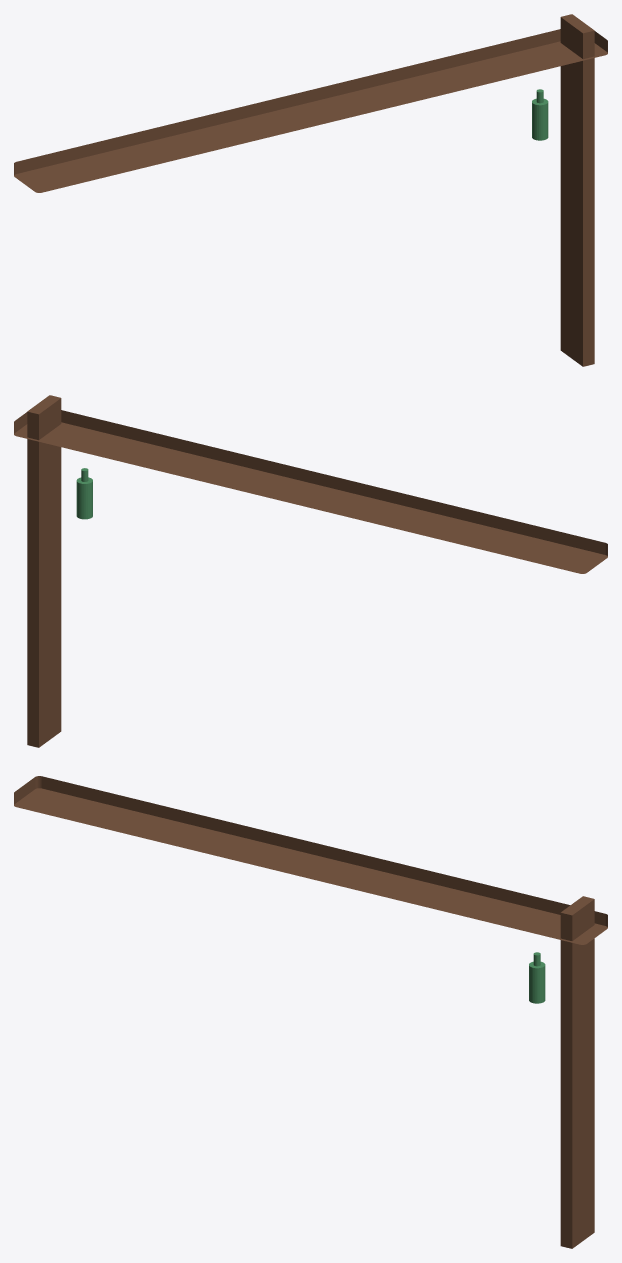
File: bar_shelf.glb
The picture shows the model from 3 angles, top to bottom: view 1: azimuth 30°, elevation 25°; view 2: azimuth 150°, elevation 25°; view 3: azimuth 330°, elevation 25°; orthographic projection.
Visible parts, largest first — view 1: Shelf, ShelfSide, Bottle; view 2: Shelf, ShelfSide, Bottle; view 3: Shelf, ShelfSide, Bottle.
Boxes of the visible parts, left/top/right/bottom form: Shelf: left=14, top=29, right=607, bottom=192; ShelfSide: left=560, top=14, right=594, bottom=366; Bottle: left=532, top=98, right=548, bottom=140; Shelf: left=14, top=410, right=607, bottom=573; ShelfSide: left=27, top=395, right=61, bottom=747; Bottle: left=76, top=477, right=92, bottom=519; Shelf: left=14, top=776, right=607, bottom=944; ShelfSide: left=560, top=896, right=594, bottom=1248; Bottle: left=529, top=961, right=545, bottom=1003.
Size of the model in its own units: 4.4 by 2.45 by 0.34.
